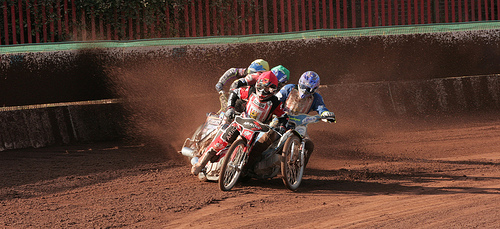helmet: (256, 75, 280, 100), (297, 71, 319, 91)
